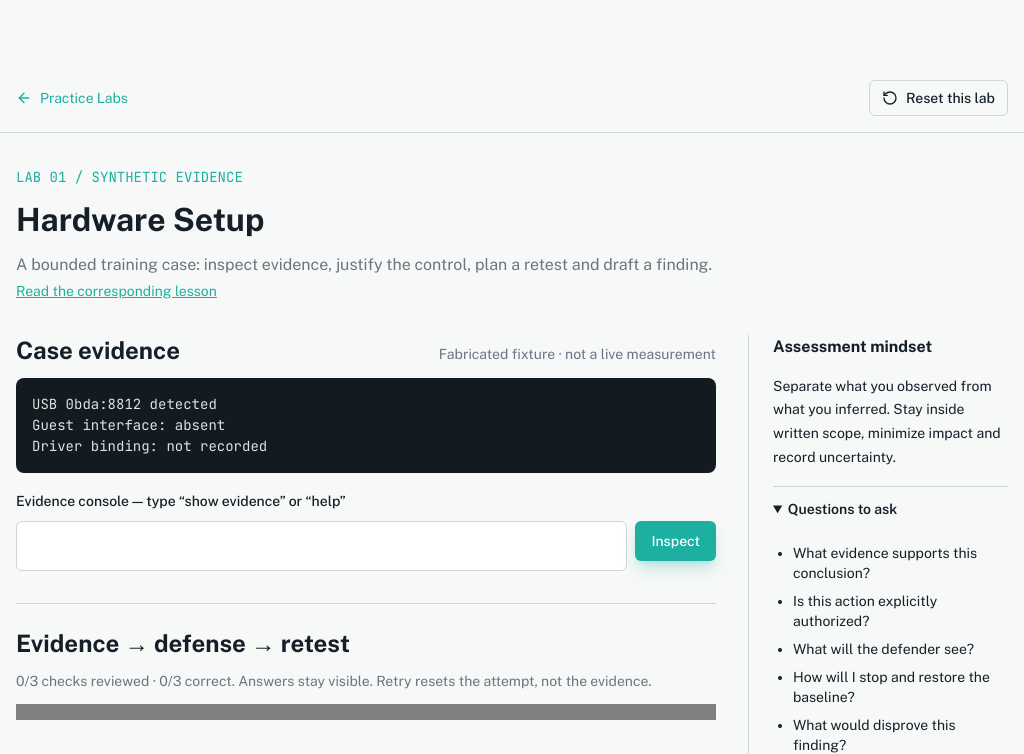
Scenario: actual learner flows › accepts only bounded canned console commands
Type "rm -rf /" into the field labelled "Evidence console — type “show evidence” or “help”". click: (322, 546)
box: [16,521,628,571]
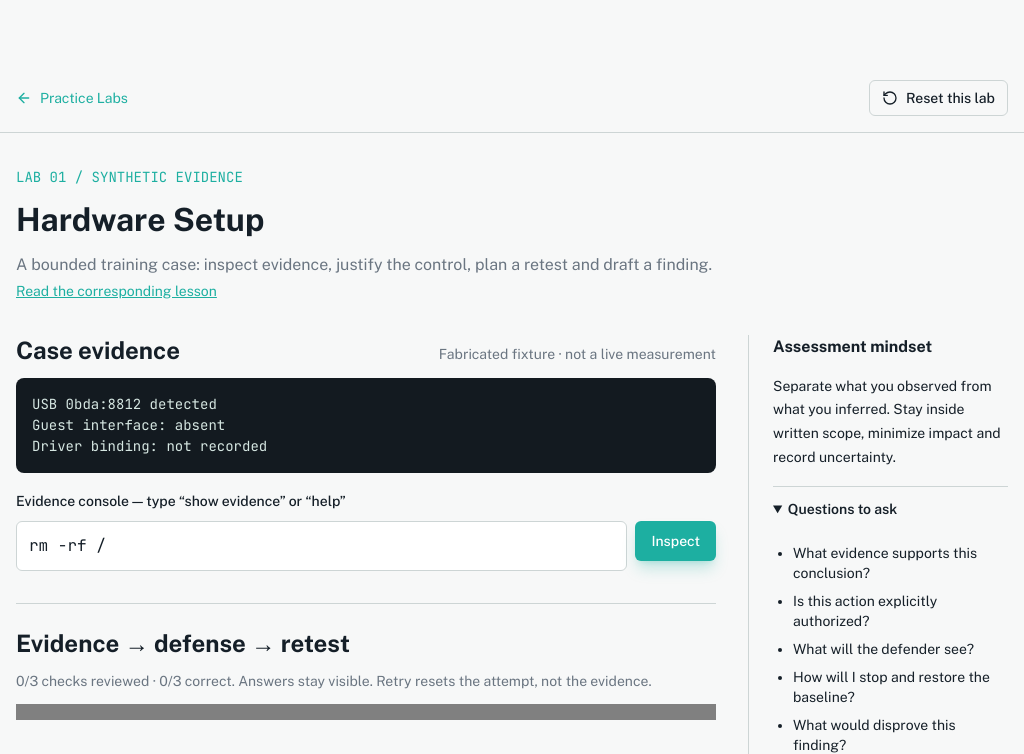
Click the button "Inspect". click: (676, 541)
box: [636,521,716,561]
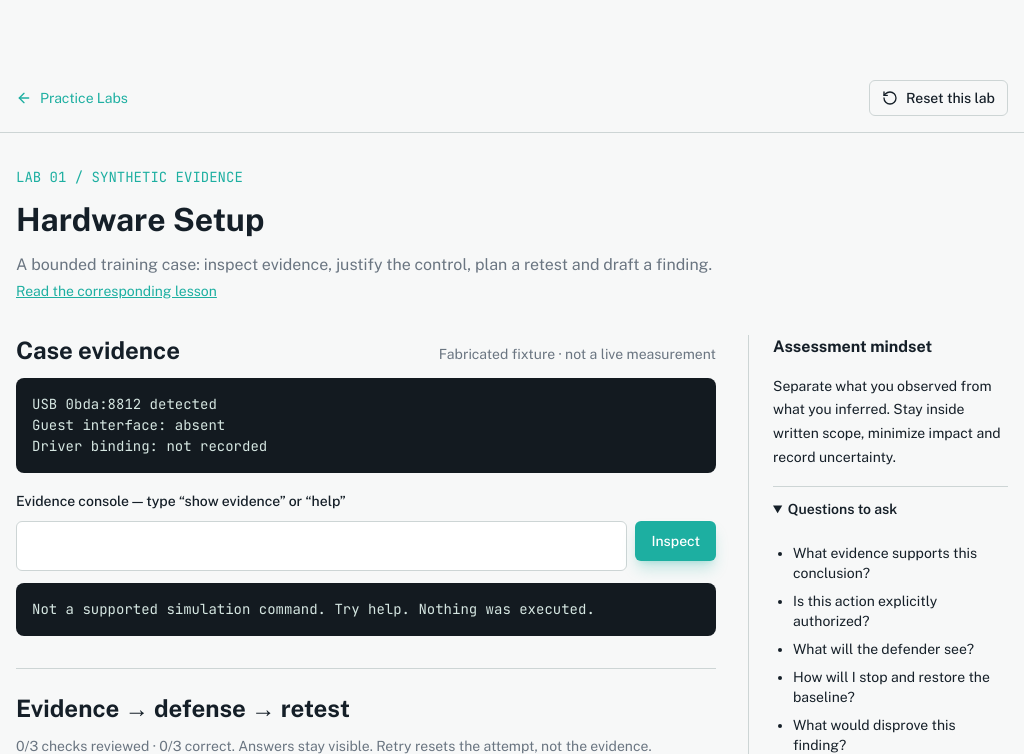
Now the text "Not a supported simulation command. Try help. Nothing was executed." is shown, box [16,583,716,636]
Type "show scope" into the field labelled "Evidence console — type “show evidence” or “help”". click: (322, 546)
box: [16,521,628,571]
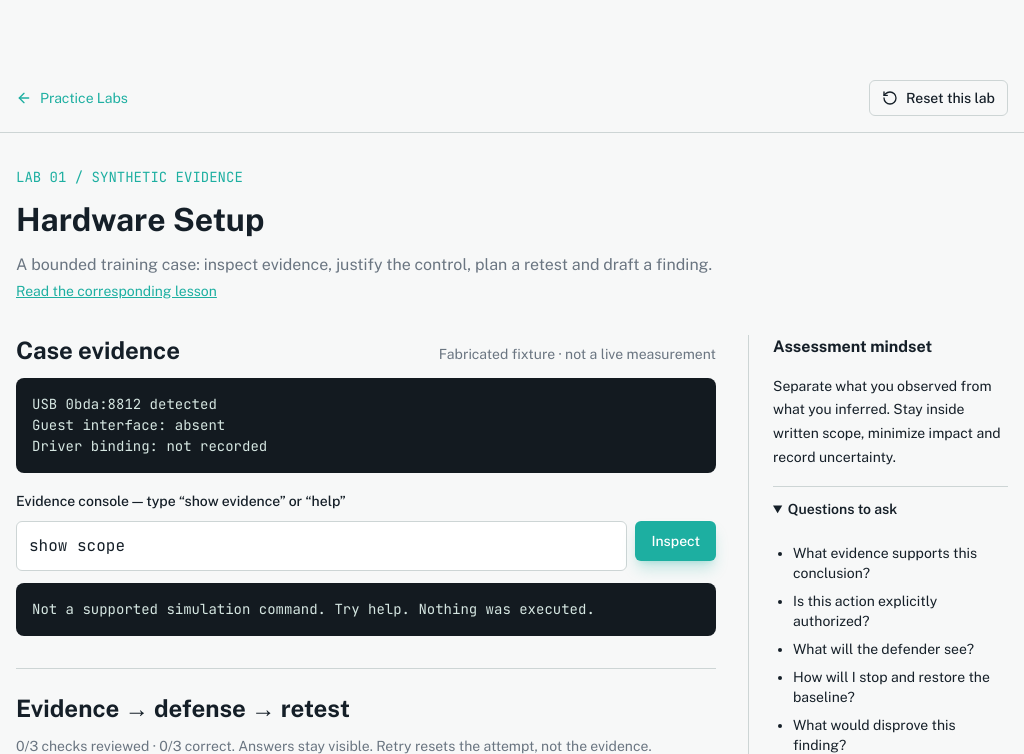
Click the button "Inspect". click: (676, 541)
box: [636,521,716,561]
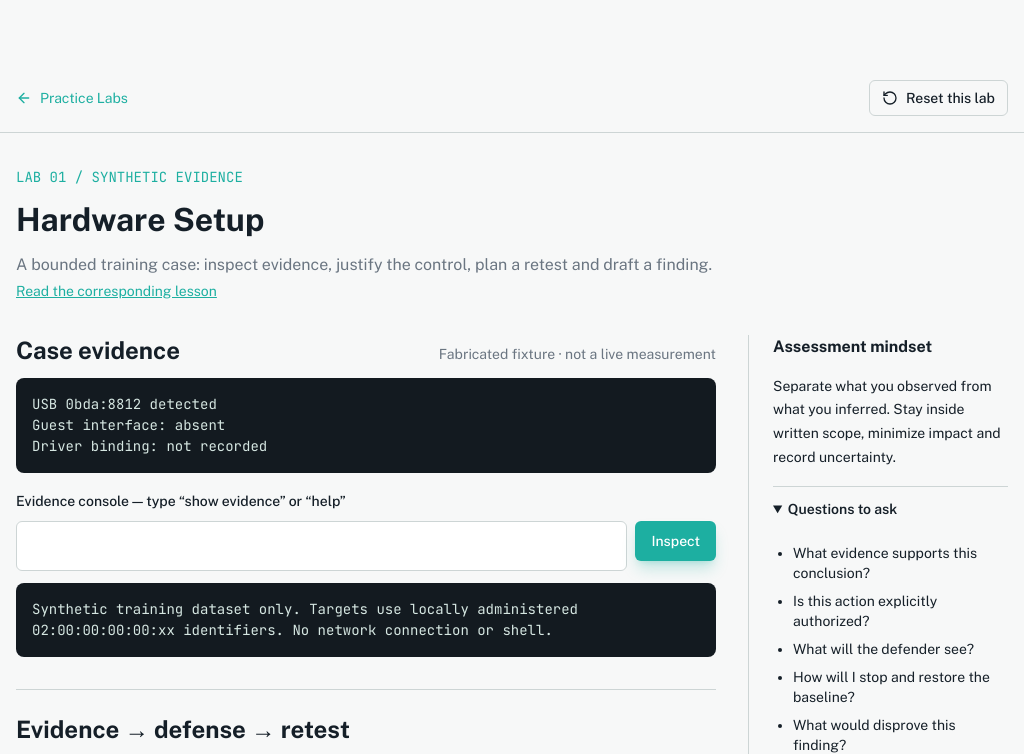
Now the text "Synthetic training dataset only" is shown, box [32,600,586,639]
